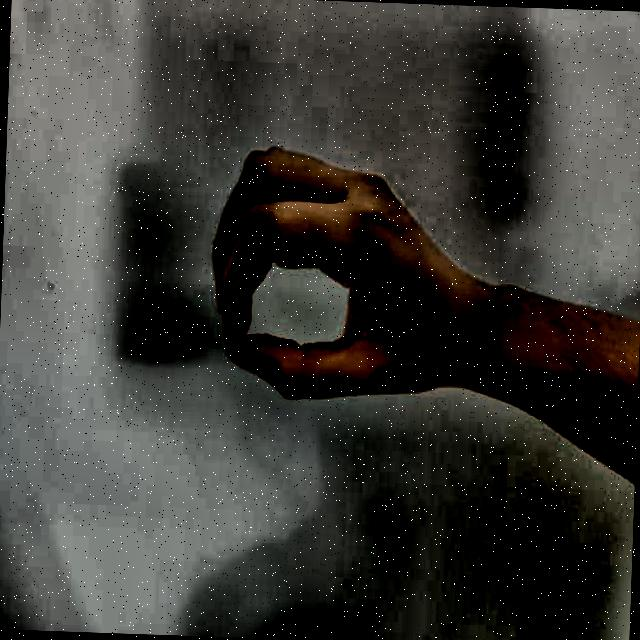O: (186, 120, 494, 448)
